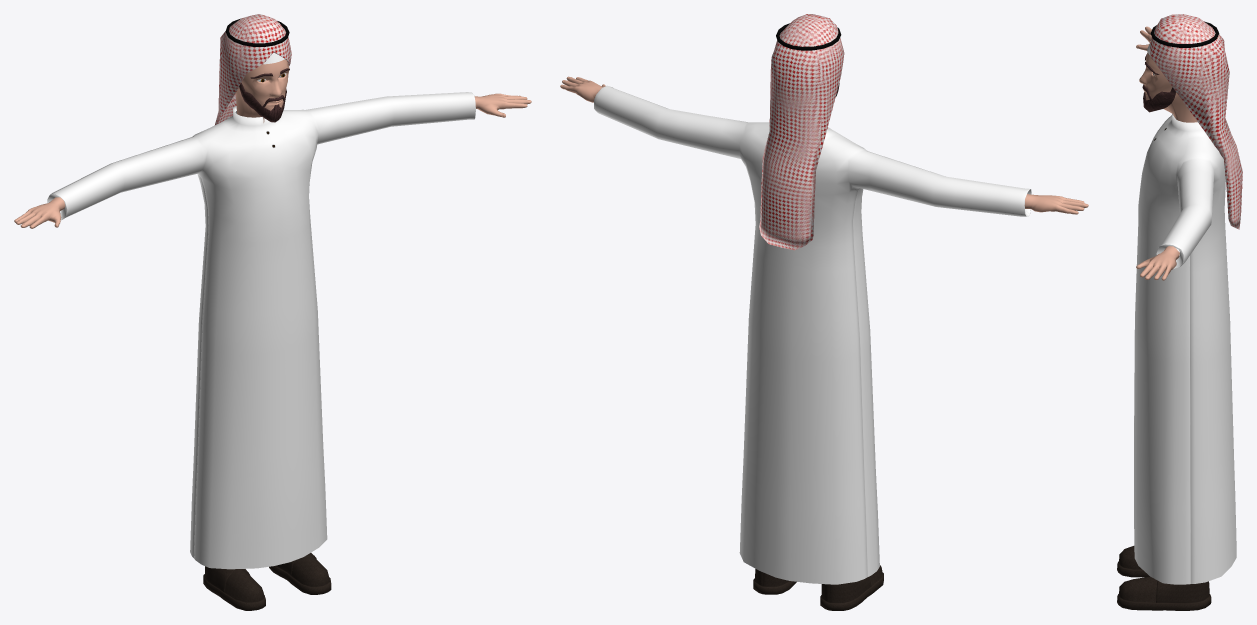
Rendered from TourGuide.FBX.
3 views of the same model, side by side, from view 1: azimuth 30°, elevation 25°; view 2: azimuth 150°, elevation 25°; view 3: azimuth 270°, elevation 25° (orthographic). The views are drawn at different scales.
Parts seen in each view (by area): view 1: Dress, Body; view 2: Dress, Body; view 3: Dress, Body.
Boxes of the visible parts, x1,y1,x2,y2 form: Dress: [47, 14, 475, 610]; Body: [14, 59, 531, 228]; Dress: [594, 14, 1031, 610]; Body: [560, 76, 1088, 214]; Dress: [1117, 14, 1242, 610]; Body: [1136, 26, 1197, 280].
Bounding box in the file's own units: 156 × 164 × 32.81.
Materials: 3 (3 with a texture image).
